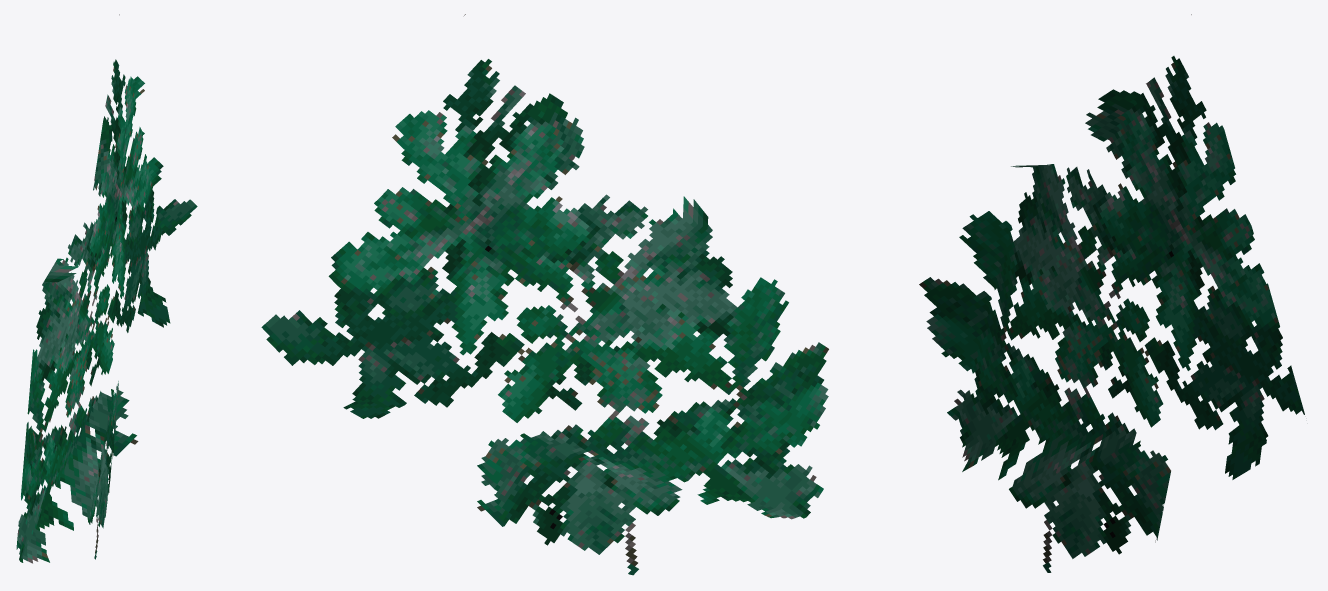
Rendered from Green Bush 2.glb.
The picture shows the model from 3 angles, left to right: view 1: azimuth 30°, elevation 25°; view 2: azimuth 150°, elevation 25°; view 3: azimuth 270°, elevation 25°; orthographic projection. The views are drawn at different scales.
Parts seen in each view (by area): view 1: Grass.005; view 2: Grass.005; view 3: Grass.005.
Part boxes in pixels (x1,y1,x2,y2): Grass.005: (16, 14, 197, 563); Grass.005: (261, 14, 828, 575); Grass.005: (919, 14, 1304, 572).
Bounding box in the file's own units: 3.52 × 4.81 × 3.08.
Materials: 1 (1 with a texture image).
